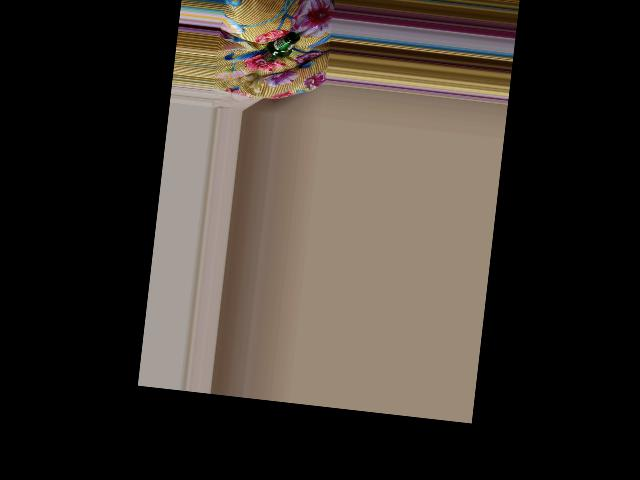beer: (260, 28, 301, 65)
